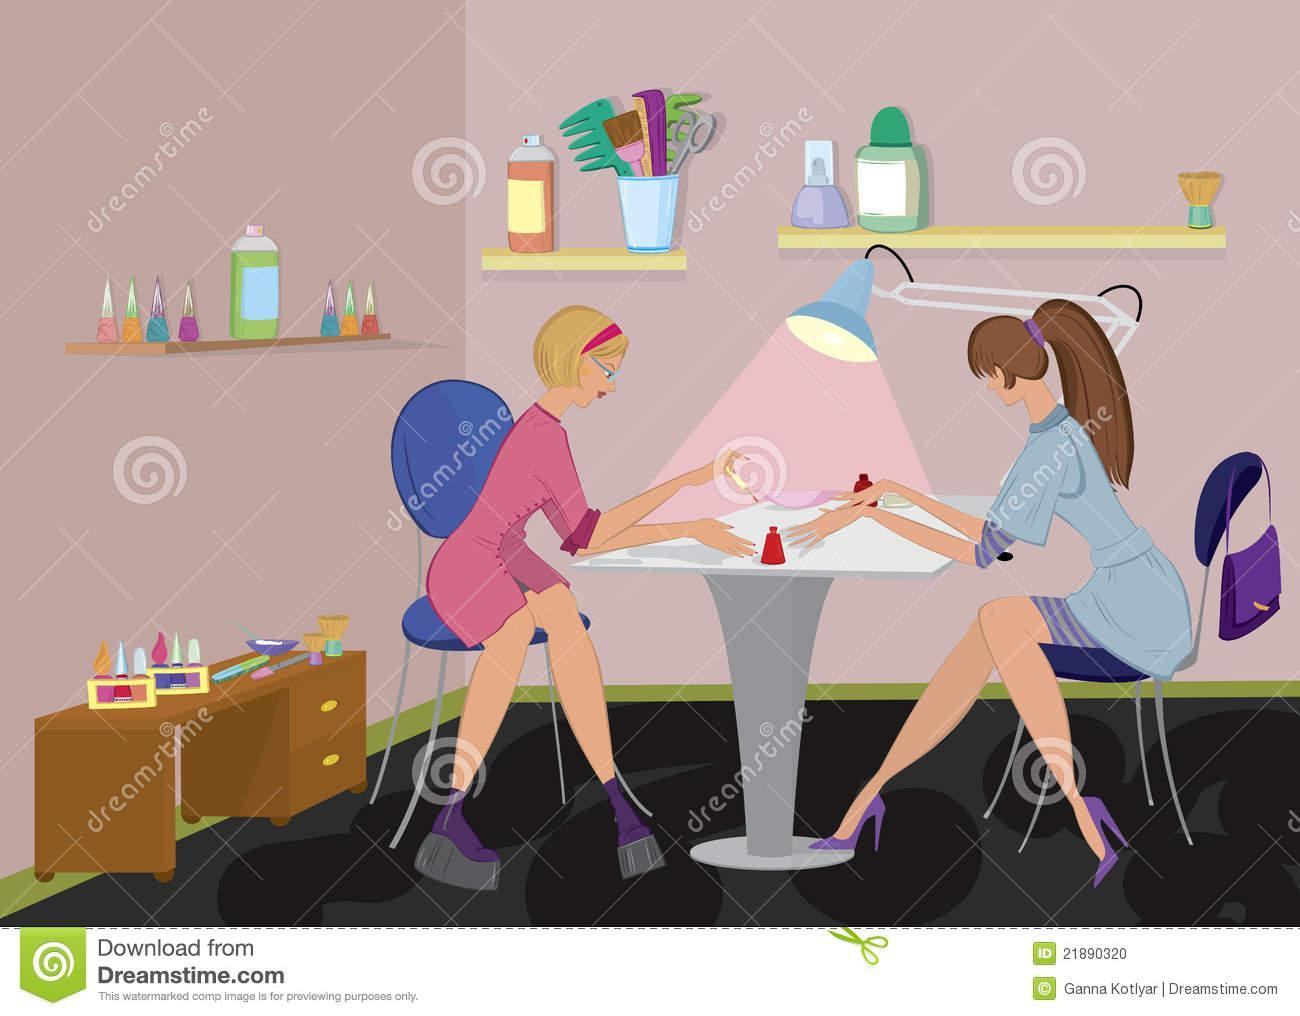boat: (223, 213, 294, 350)
bottle: (498, 121, 579, 262)
chair: (1013, 452, 1273, 840), (369, 384, 581, 797)
diningtable: (591, 434, 982, 882)
person: (801, 301, 1191, 895), (417, 301, 768, 878)
